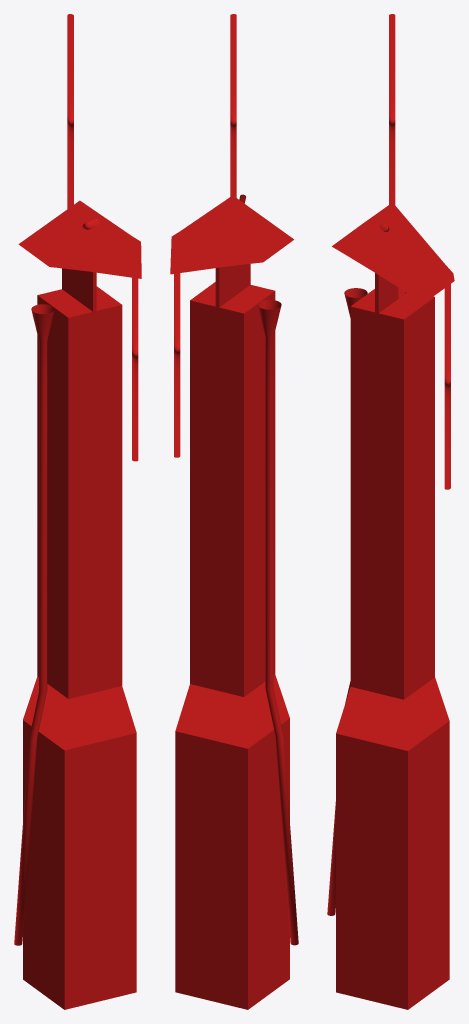
File: PanteraRosa.obj
3 renders of one model, left to right at view 1: azimuth 30°, elevation 25°; view 2: azimuth 150°, elevation 25°; view 3: azimuth 330°, elevation 25°, orthographic.
Parts seen in each view (by area): view 1: Cylinder.004, Cylinder; view 2: Cylinder.004, Cylinder; view 3: Cylinder.004, Cylinder.
Boxes of the visible parts, bbox=[...] form: Cylinder.004: bbox=[18, 14, 141, 1009]; Cylinder: bbox=[14, 304, 54, 945]; Cylinder.004: bbox=[170, 14, 293, 1009]; Cylinder: bbox=[258, 299, 298, 945]; Cylinder.004: bbox=[332, 14, 454, 1009]; Cylinder: bbox=[327, 288, 367, 915].
Size of the model in its own units: 3.49 by 25.63 by 2.
